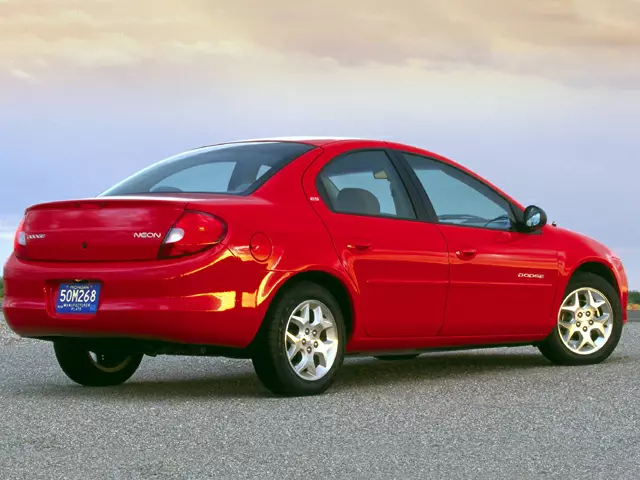car: (1, 134, 631, 398)
